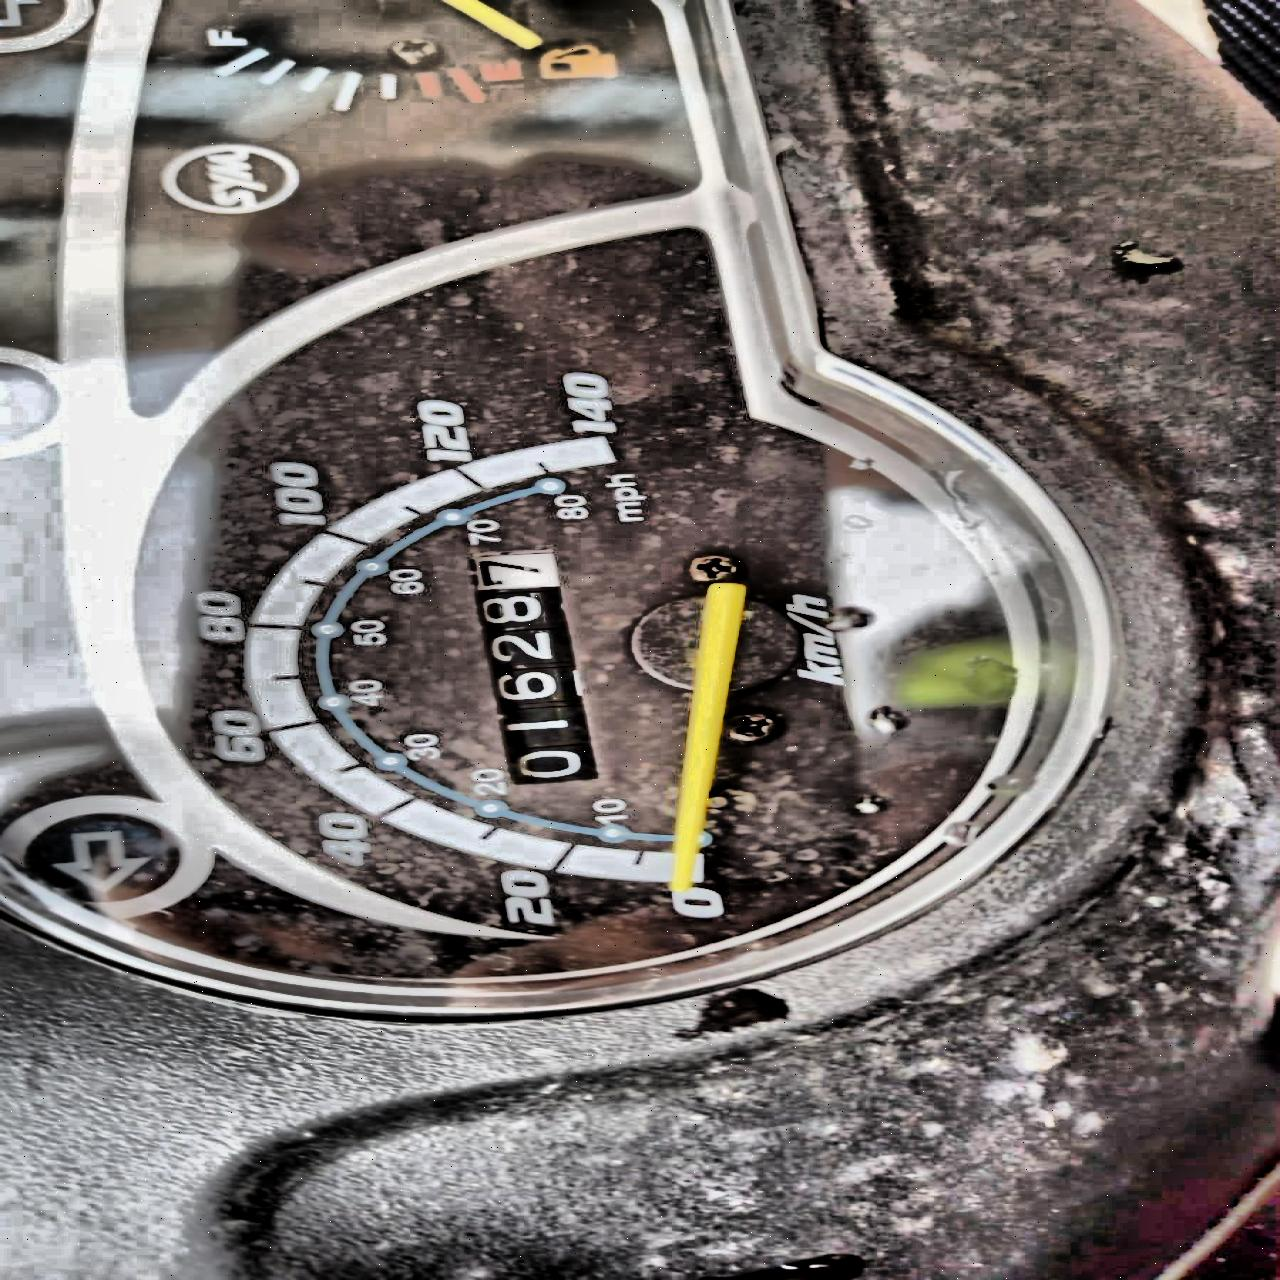0: (509, 748, 587, 779), (463, 763, 504, 781)
1: (491, 714, 584, 736)
2: (489, 628, 560, 663)
6: (484, 668, 563, 703)
7: (470, 557, 559, 586)
8: (472, 592, 549, 624)
odometer: (459, 542, 618, 787)
